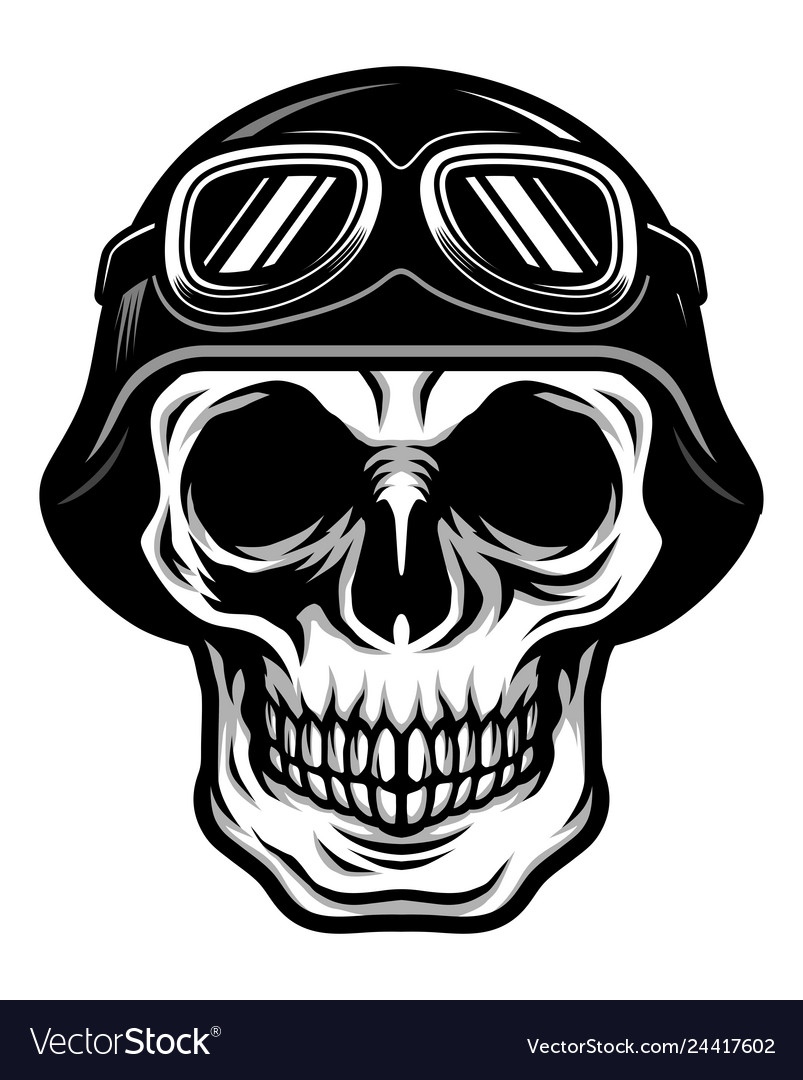with_helmet: (39, 75, 761, 626)
